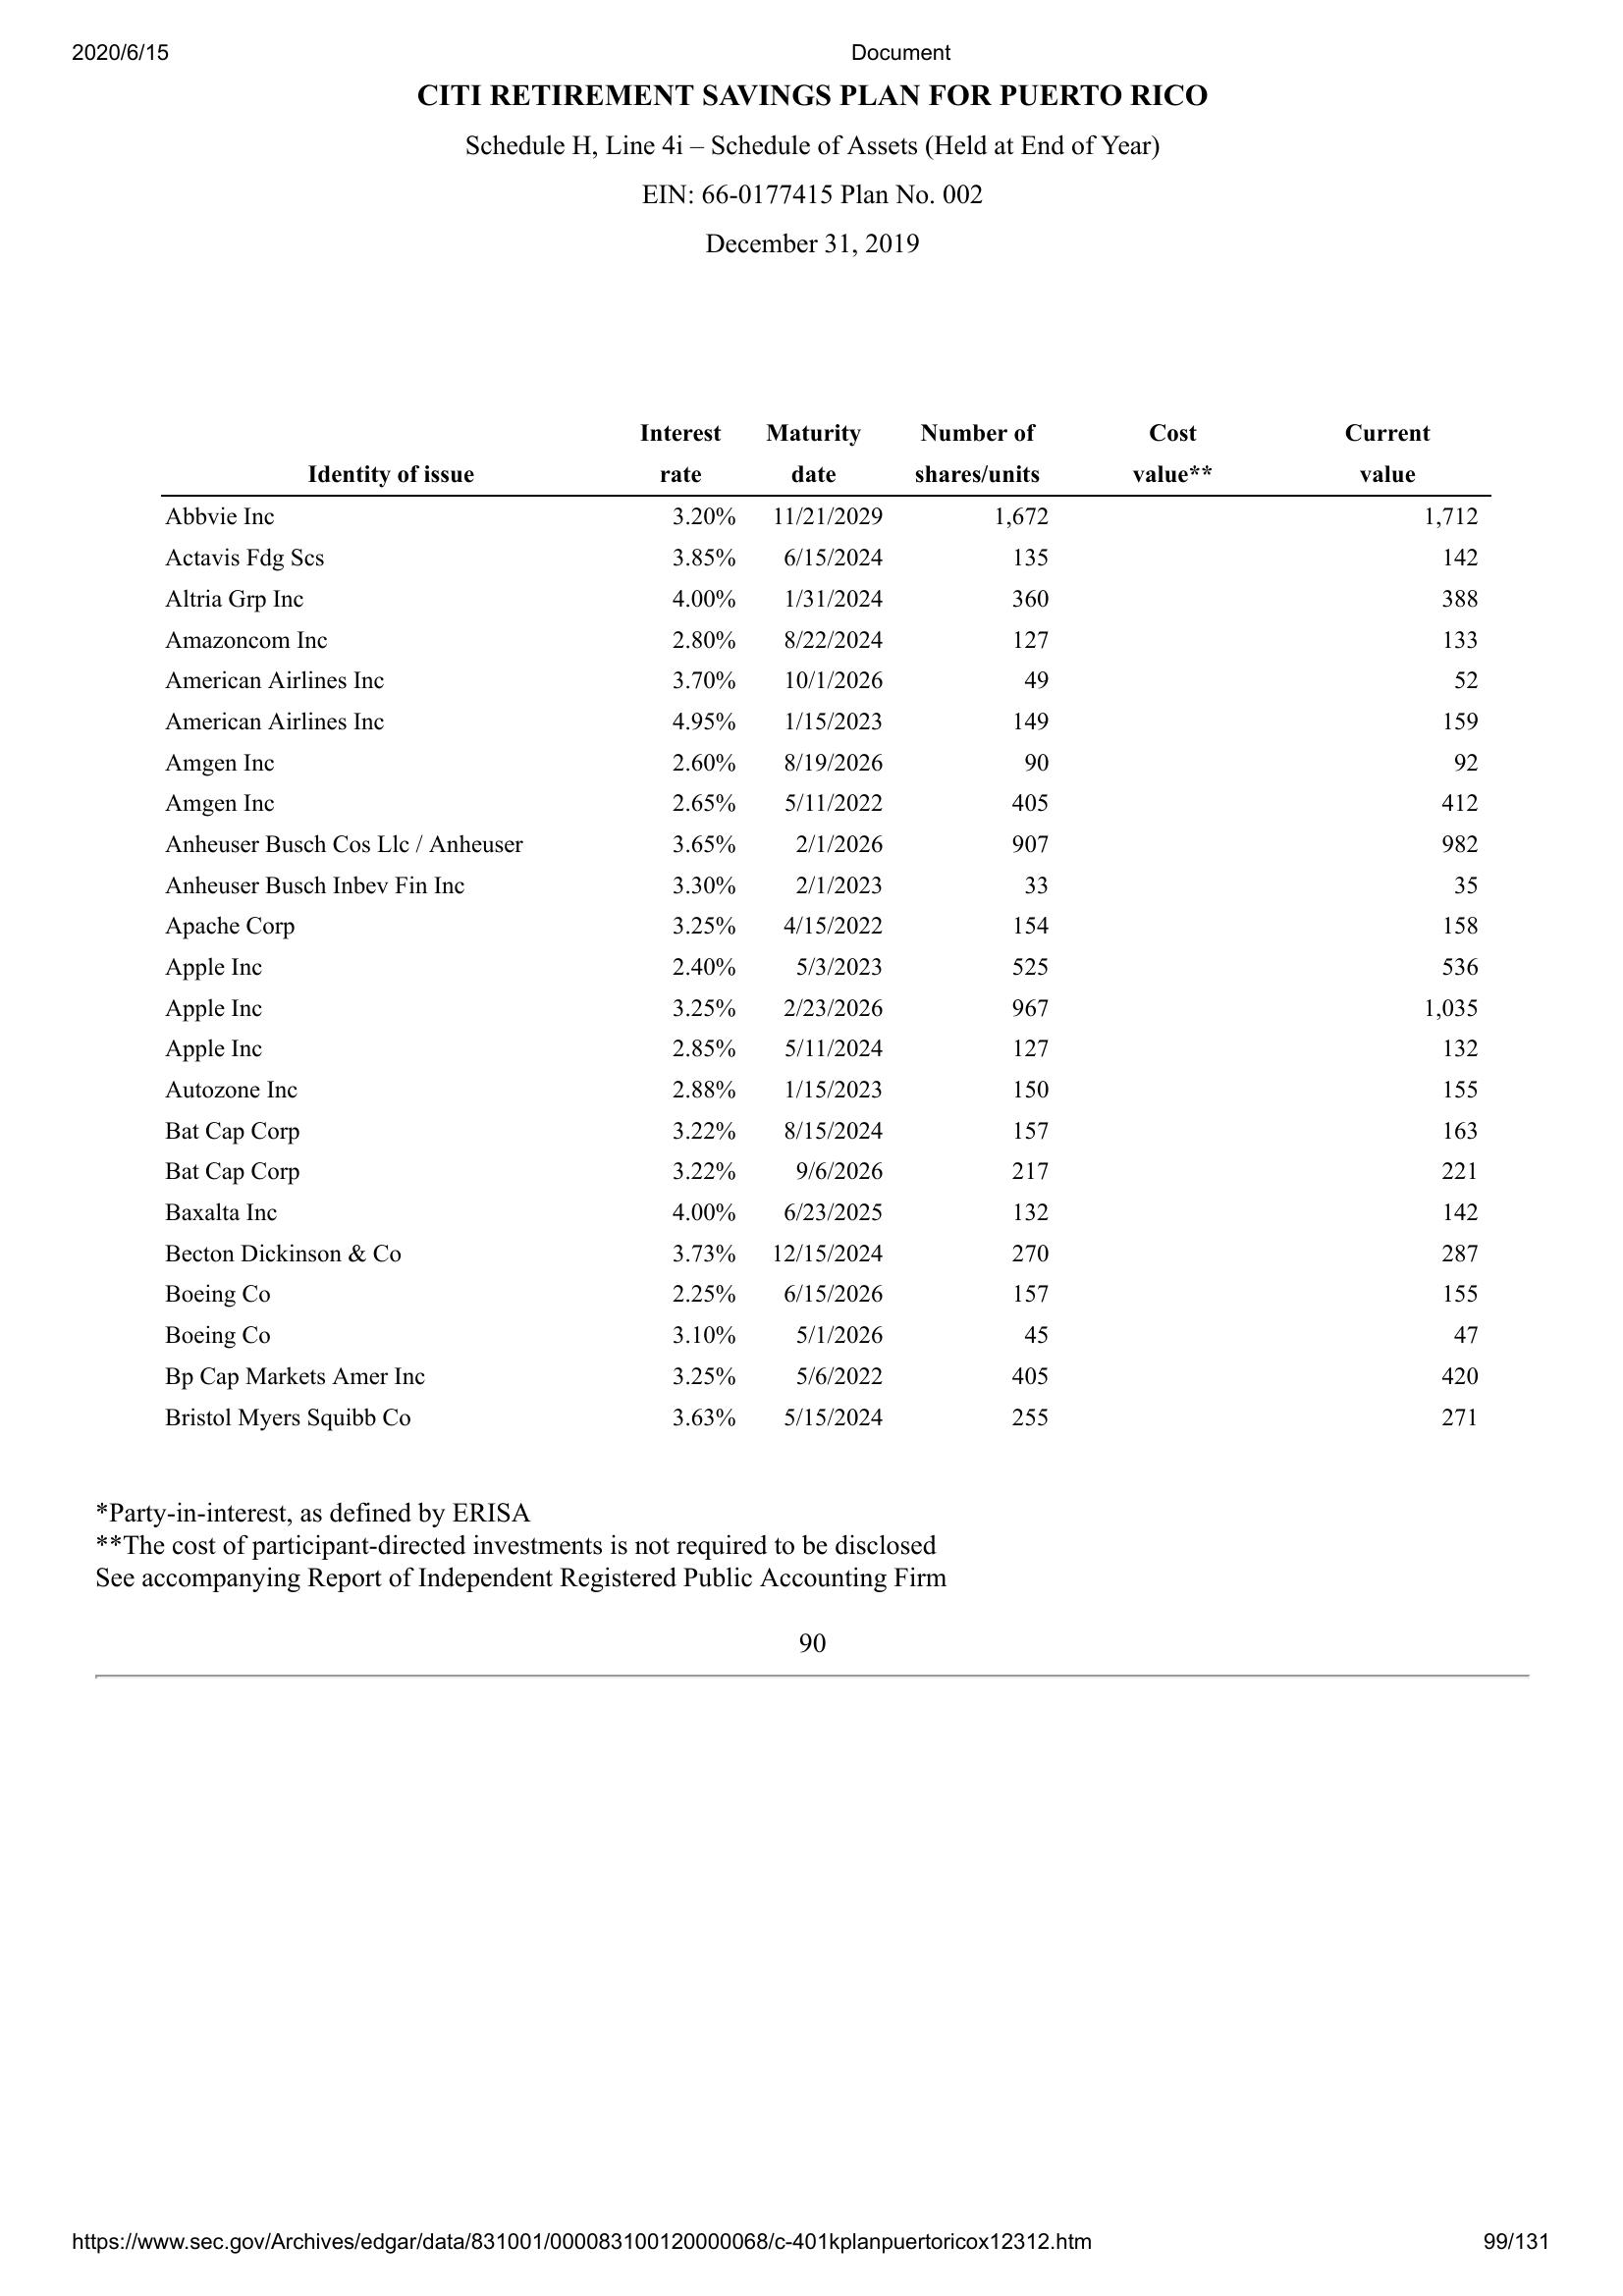table: (153, 418, 1488, 1438)
